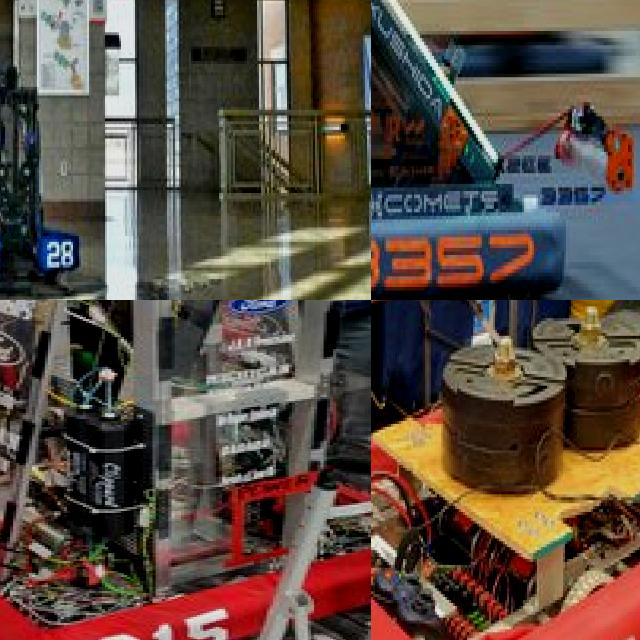FRC-Robots: (0, 300, 371, 640), (371, 300, 640, 640), (371, 0, 609, 300), (0, 29, 99, 293)
